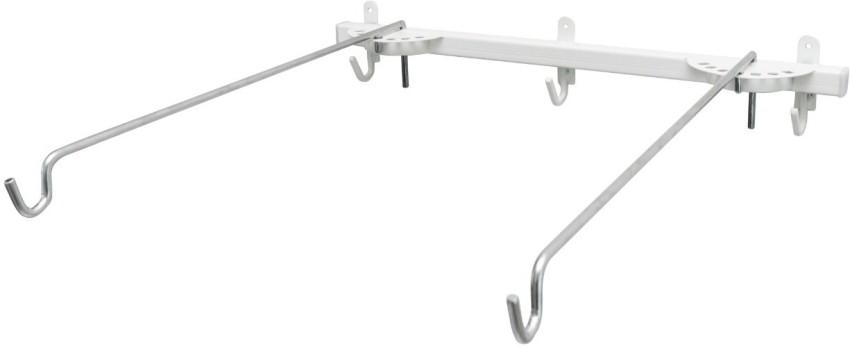Saline Stand: (2, 1, 848, 342)
